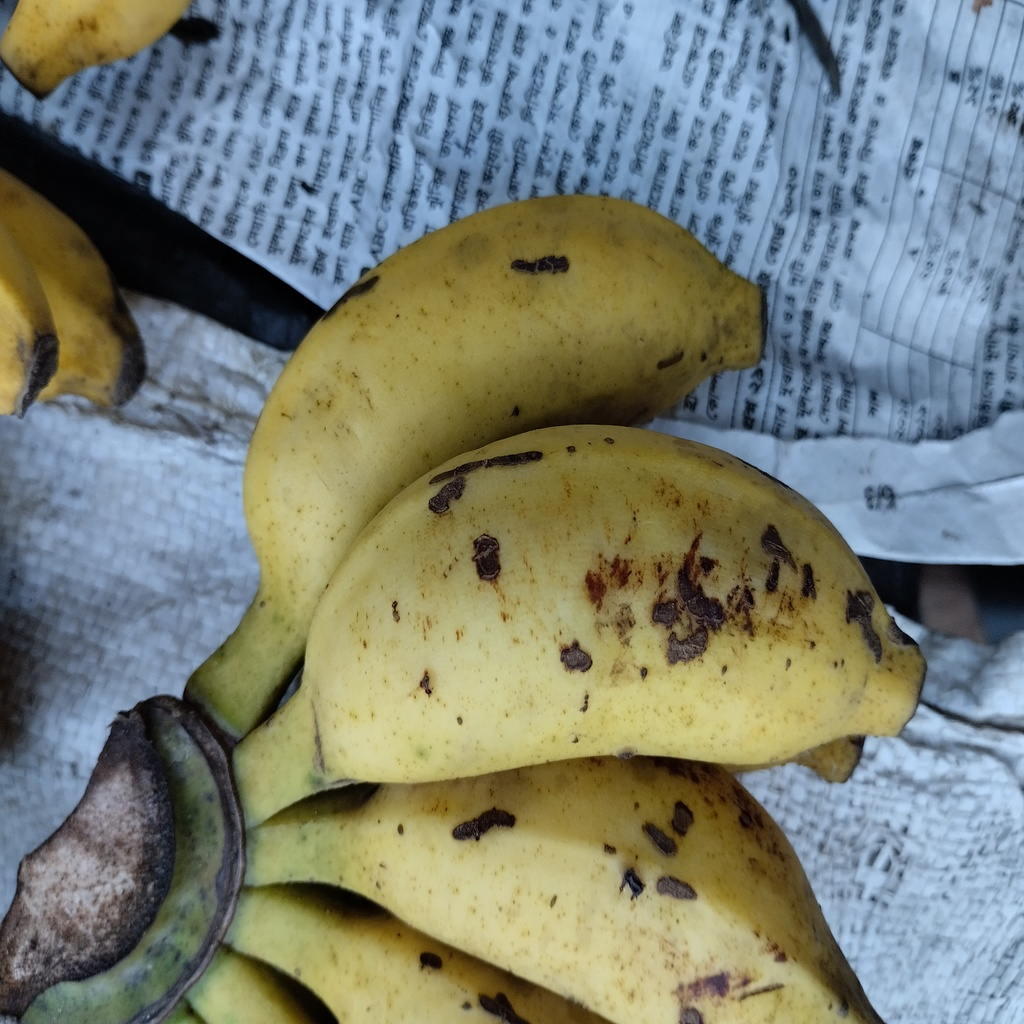unhealthy: (242, 198, 770, 613), (307, 422, 912, 781)
